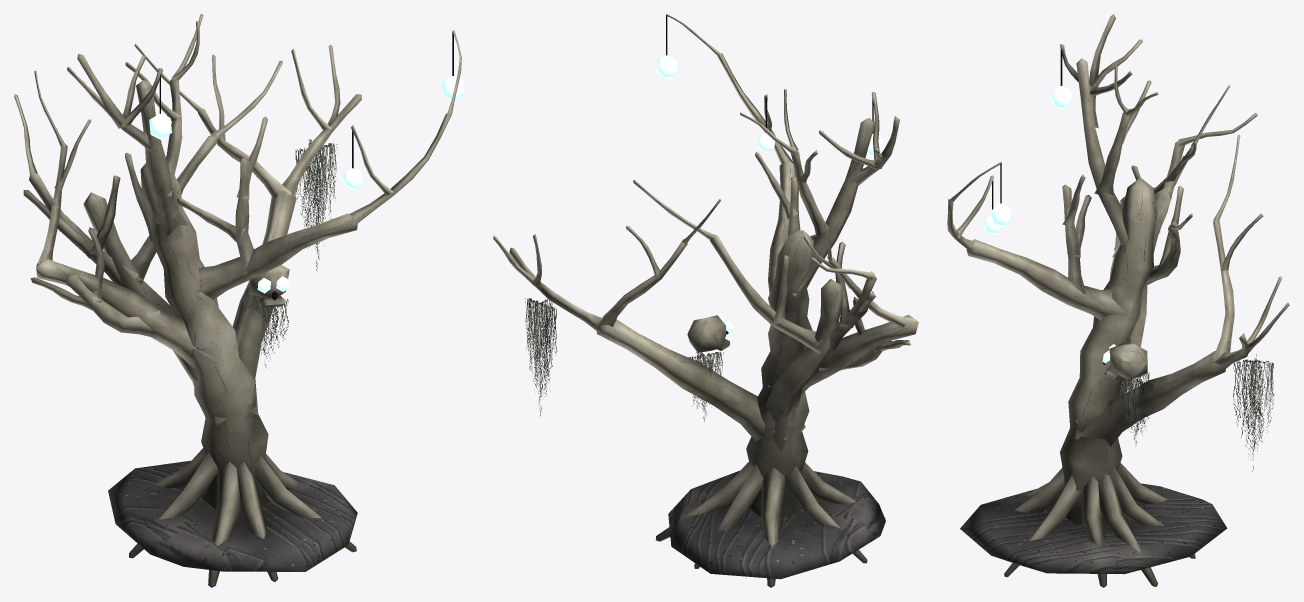
File: helheim_bone_tree_a_lod1.glb
3 renders of one model, left to right at view 1: azimuth 30°, elevation 25°; view 2: azimuth 150°, elevation 25°; view 3: azimuth 270°, elevation 25°, orthographic. The views are drawn at different scales.
Parts seen in each view (by area): view 1: helheim_bone_tree_a_lod1; view 2: helheim_bone_tree_a_lod1; view 3: helheim_bone_tree_a_lod1.
Boxes of the visible parts, <box> form: helheim_bone_tree_a_lod1: <box>14,14,464,587</box>; helheim_bone_tree_a_lod1: <box>493,14,918,587</box>; helheim_bone_tree_a_lod1: <box>947,14,1289,587</box>.
Size of the model in its own units: 2.57 by 3.27 by 2.15.
5 materials, 3 textured.
